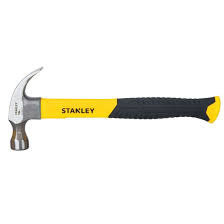hammer: (8, 67, 222, 152)
